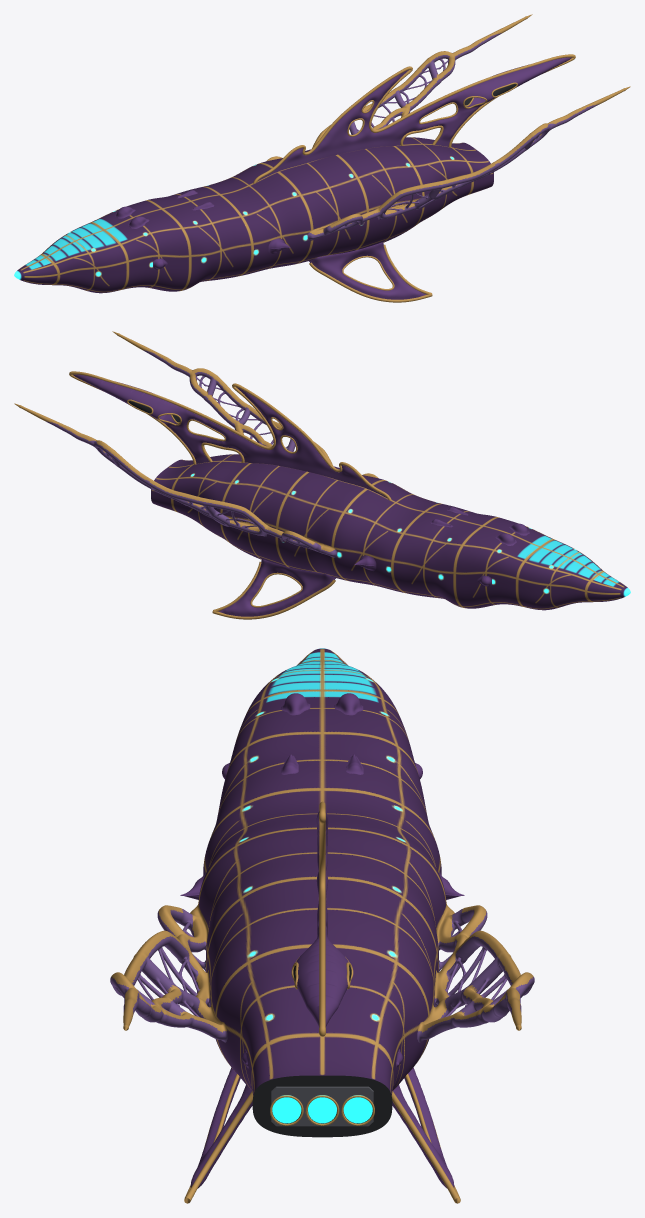
File: model_v41_web.glb
3 renders of one model, top to bottom at view 1: azimuth 30°, elevation 25°; view 2: azimuth 150°, elevation 25°; view 3: azimuth 270°, elevation 25°, orthographic. The views are drawn at different scales.
Visible parts, largest first — view 1: EXT__EXT_Hull, EXT__EXT_Blade__NC, EXT__EXT_Copper__NC, EXT__EXT_Blade, EXT__EXT_Copper, EXT__EXT_Wing, EXT__EXT_Wing__NC; view 2: EXT__EXT_Hull, EXT__EXT_Blade__NC, EXT__EXT_Copper__NC, EXT__EXT_Wing__NC, EXT__EXT_Copper, EXT__EXT_Wing; view 3: EXT__EXT_Hull, EXT__EXT_Copper__NC, EXT__EXT_Blade__NC, EXT__EXT_Copper, EXT__EXT_Wing, EXT__EXT_Wing__NC, EXT__INT_Dark, EXT__EXT_Blade, INT_S__INT_Shell, DRV__DRV_Glow__NC.
Part boxes in pixels (x1,y1,x2,y2): EXT__EXT_Hull: [14, 137, 493, 293]; EXT__EXT_Blade__NC: [115, 57, 571, 218]; EXT__EXT_Copper__NC: [253, 14, 575, 183]; EXT__EXT_Blade: [128, 202, 426, 299]; EXT__EXT_Copper: [309, 86, 630, 302]; EXT__EXT_Wing: [307, 104, 598, 240]; EXT__EXT_Wing__NC: [349, 33, 501, 134]; EXT__EXT_Hull: [151, 454, 630, 610]; EXT__EXT_Blade__NC: [73, 374, 516, 616]; EXT__EXT_Copper__NC: [14, 371, 391, 619]; EXT__EXT_Wing__NC: [46, 421, 337, 557]; EXT__EXT_Copper: [112, 331, 378, 478]; EXT__EXT_Wing: [143, 350, 295, 451]; EXT__EXT_Hull: [198, 648, 446, 1137]; EXT__EXT_Copper__NC: [291, 801, 533, 1203]; EXT__EXT_Blade__NC: [296, 693, 464, 1188]; EXT__EXT_Copper: [111, 904, 253, 1203]; EXT__EXT_Wing: [110, 909, 227, 1042]; EXT__EXT_Wing__NC: [417, 909, 534, 1042]; EXT__INT_Dark: [252, 1075, 392, 1137]; EXT__EXT_Blade: [180, 693, 310, 1188]; INT_S__INT_Shell: [271, 1086, 373, 1126]; DRV__DRV_Glow__NC: [308, 1095, 372, 1123].
Size of the model in its own units: 118 by 40.32 by 38.06.
Materials: 27 (1 with a texture image).
